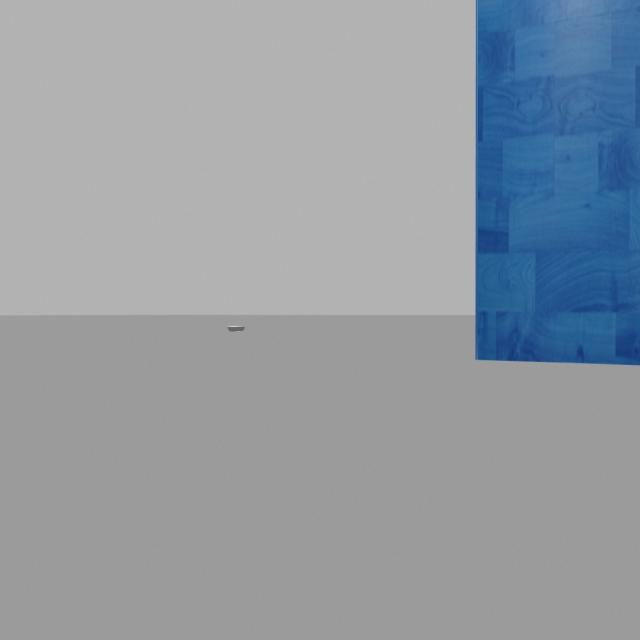bowl: (224, 318, 254, 340)
shelf: (465, 0, 640, 378)
